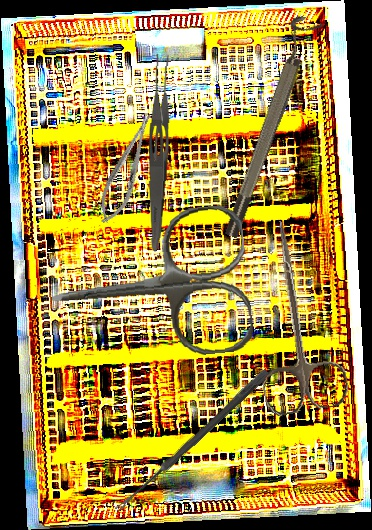Dressing Forceps: (147, 51, 173, 253)
Fixation Ring: (211, 13, 324, 240)
Iris Scissors: (43, 203, 256, 370), (234, 214, 352, 418)
Needle Holder: (91, 108, 163, 229)
Surgical Spoon: (113, 367, 271, 515)
